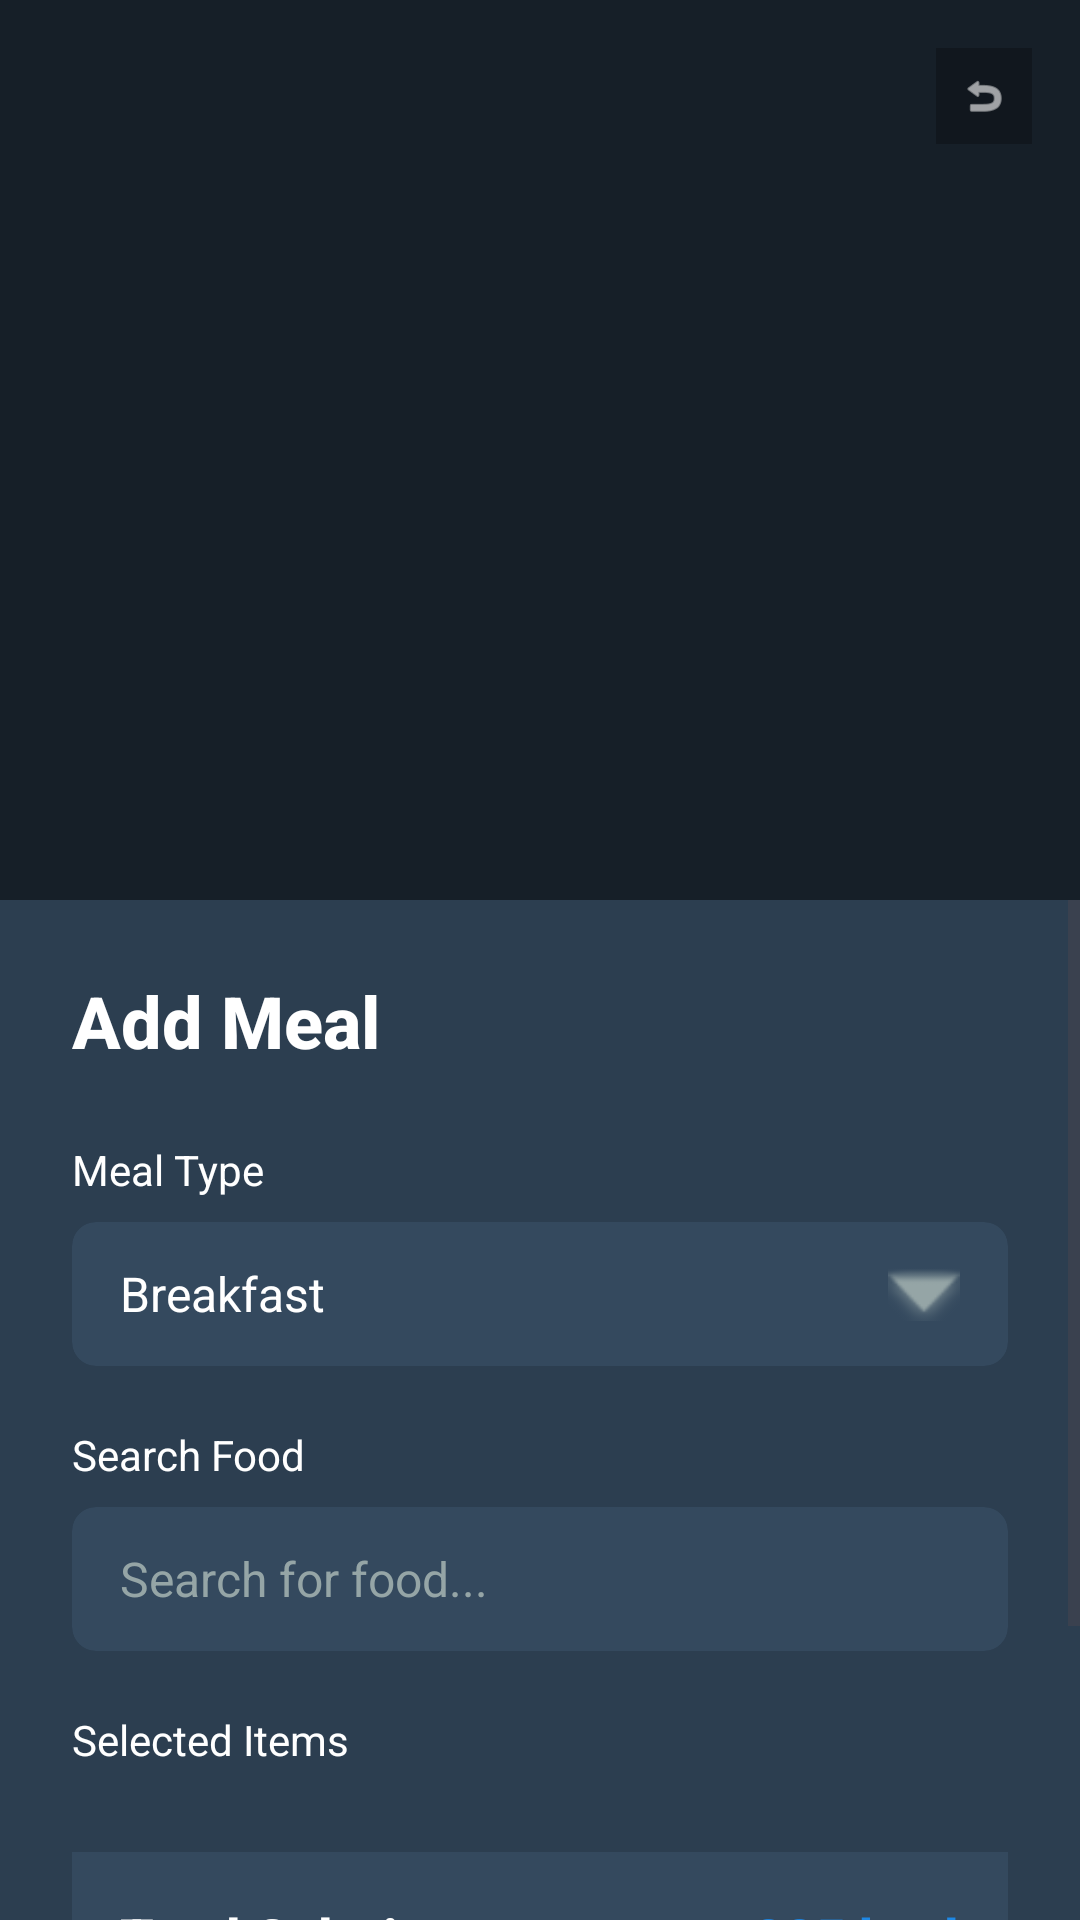

Icons on this 1080 × 1920 Android screen, each with the point to tap as point (x, y):
arrow down float: point (924, 1292)
revert: point (984, 96)
